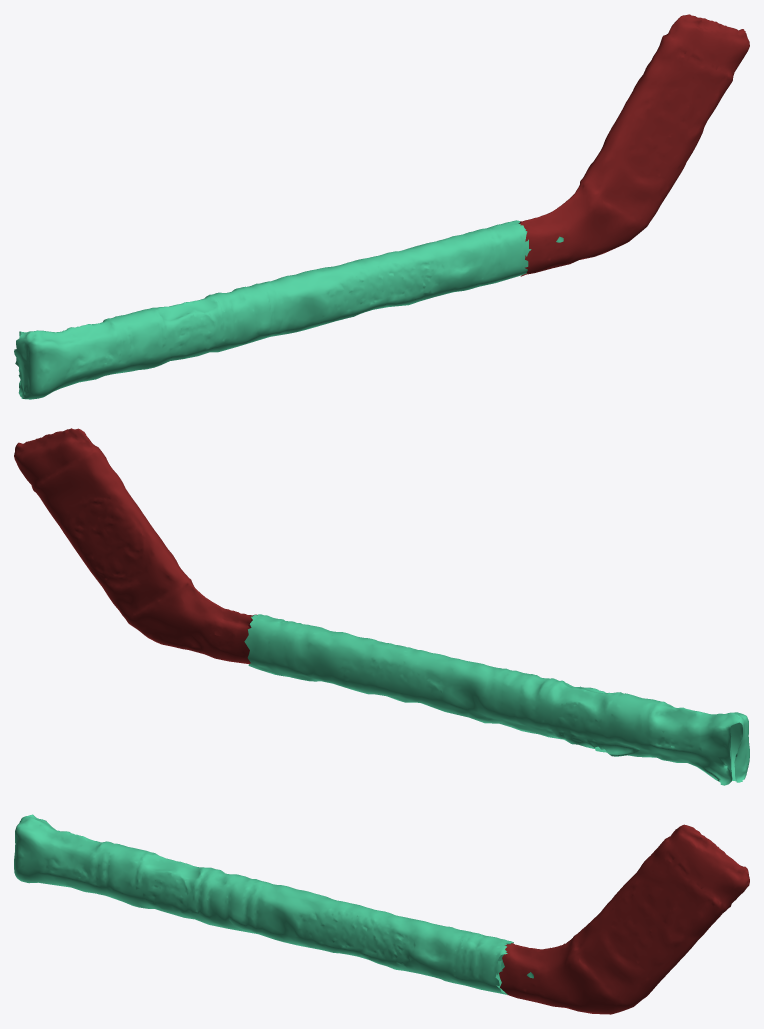
File: object_deformed_1.obj
3 renders of one model, top to bottom at view 1: azimuth 30°, elevation 25°; view 2: azimuth 150°, elevation 25°; view 3: azimuth 330°, elevation 25°, orthographic. The views are drawn at different scales.
Size of the model in its own units: 0.6063 by 0.1655 by 0.0462.
